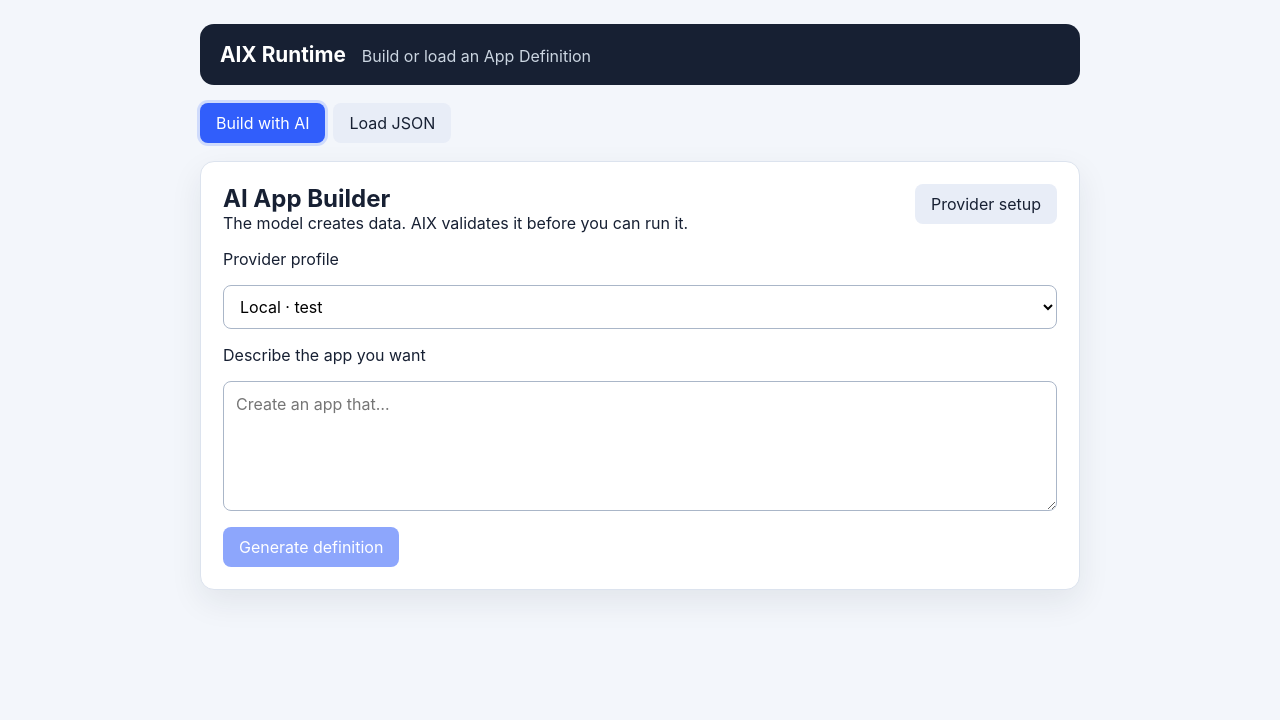
Test: desktop app › generates a validated definition and offers review and export
In the text box labelled "Describe the app you want": (640, 446) [223,381,1057,511], type "Create hello"
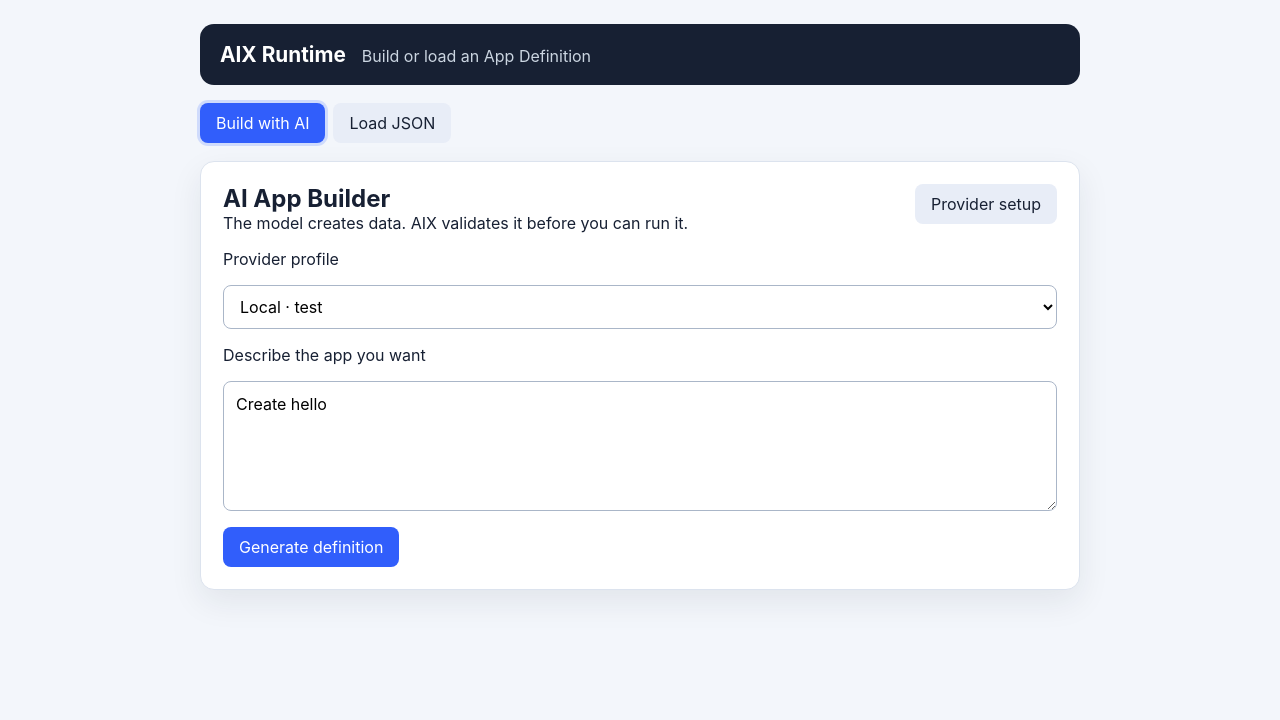
Click the button "Generate definition": (311, 547) [223,527,399,567]
(page scrolled)
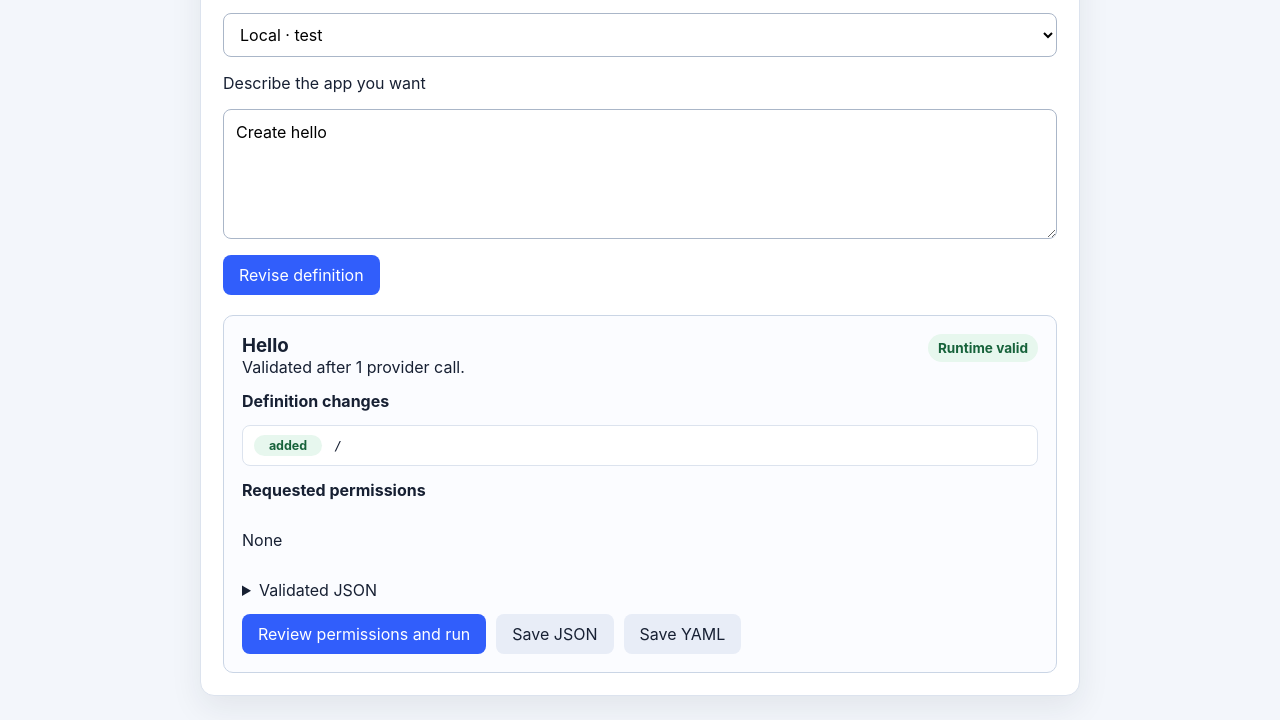
Result: the element named "Generated definition review" is shown at [223,315,1057,673]
Click the button "Save JSON": (555, 634) [496,614,614,654]
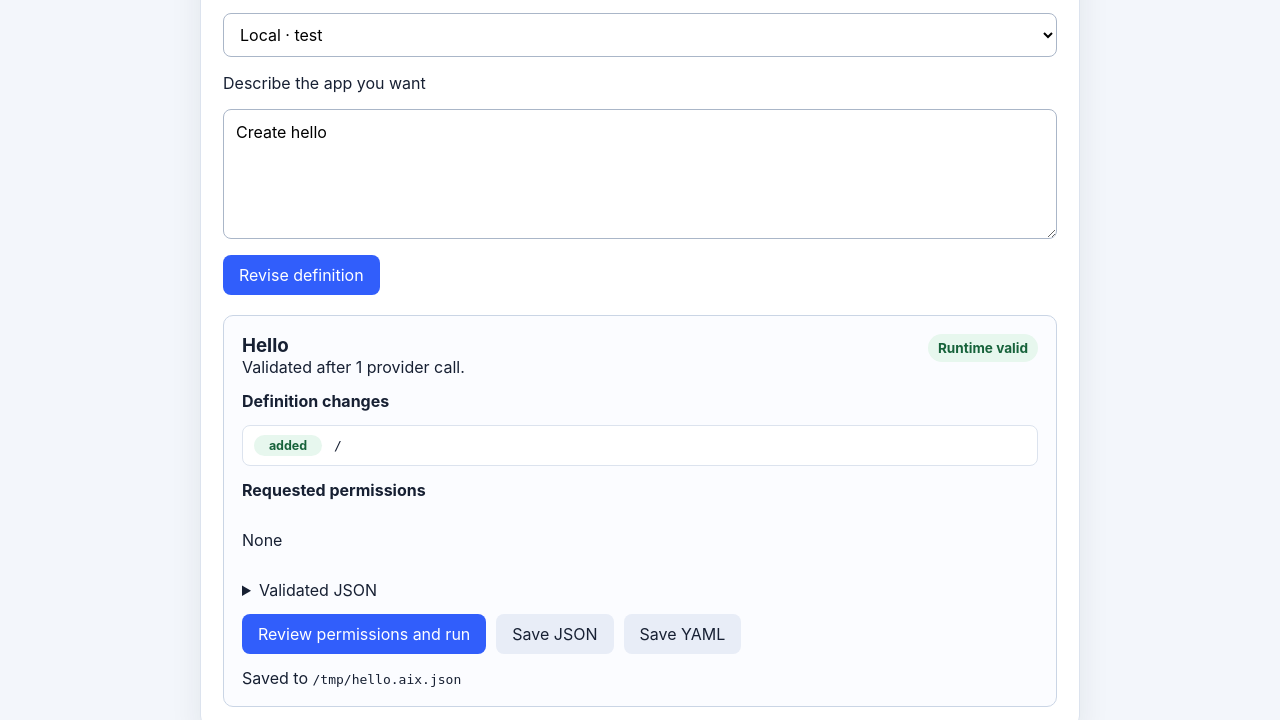
Result: the text "Saved to /tmp/hello.aix.json" is shown at [242,668,461,688]
